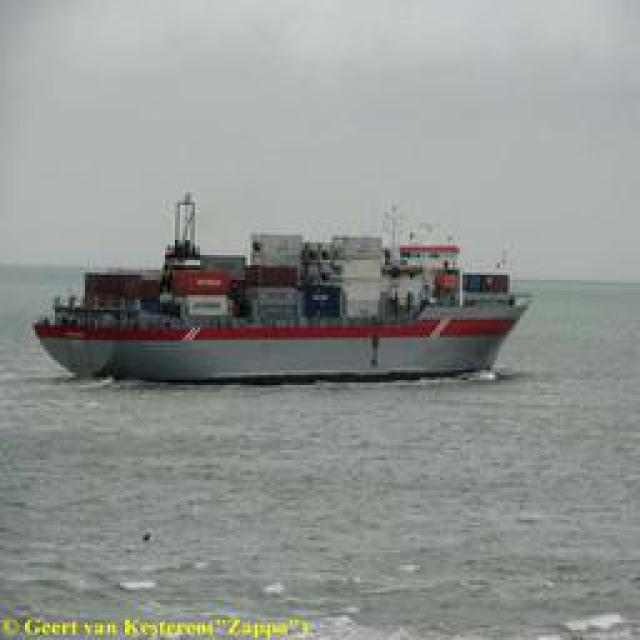Ship: (50, 215, 540, 385)
